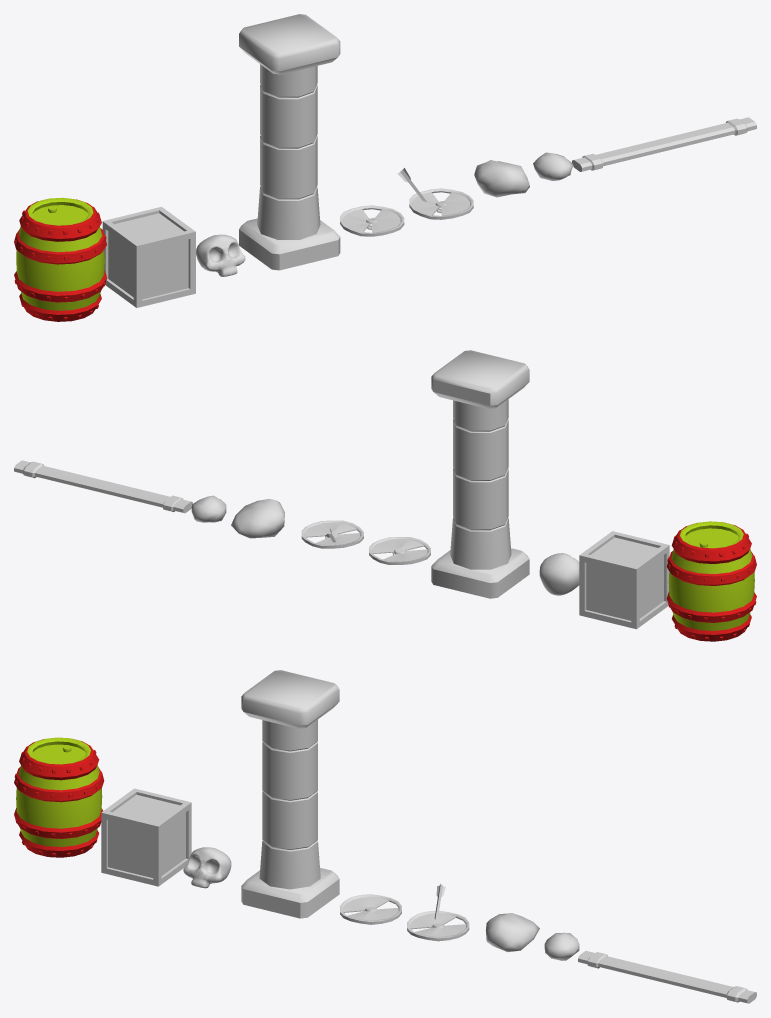
File: BB props 1.fbx
3 renders of one model, top to bottom at view 1: azimuth 30°, elevation 25°; view 2: azimuth 150°, elevation 25°; view 3: azimuth 330°, elevation 25°, orthographic. The views are drawn at different scales.
Parts seen in each view (by area): view 1: barrel; view 2: barrel; view 3: barrel.
Boxes of the visible parts, x1,y1,x2,y2 form: barrel: (14, 14, 756, 321); barrel: (14, 350, 756, 641); barrel: (14, 670, 756, 1003).
Size of the model in its own units: 494 by 138 by 59.58.
